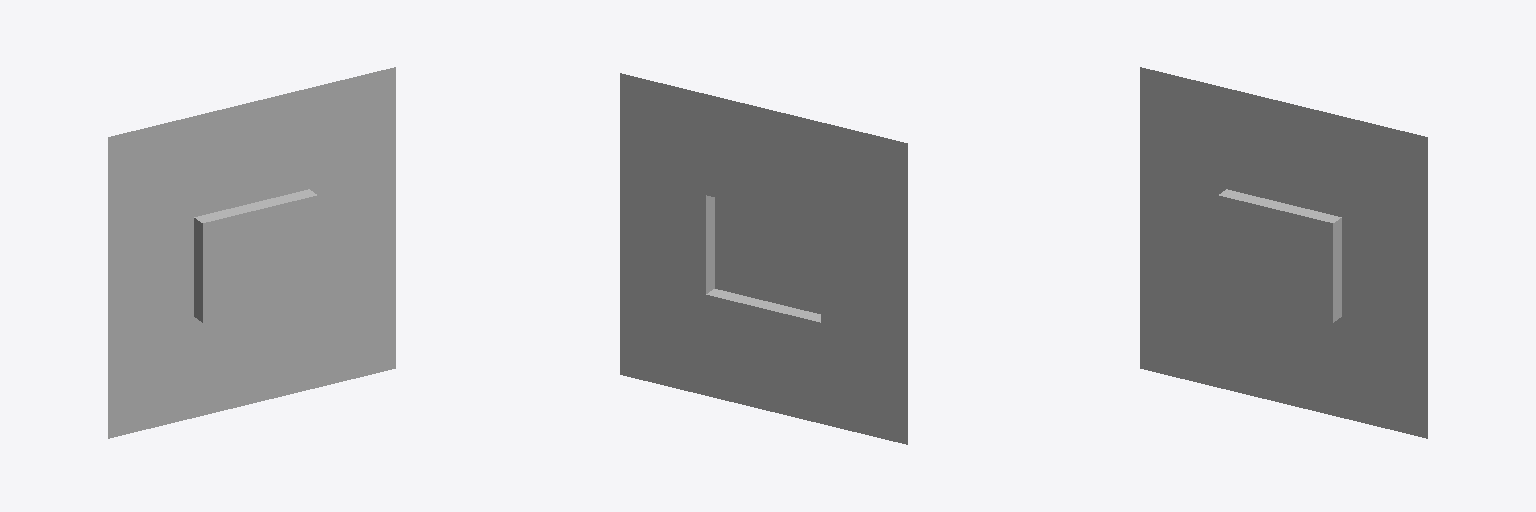
The model's file is wall-pane-wood-window.obj.
3 renders of one model, left to right at view 1: azimuth 30°, elevation 25°; view 2: azimuth 150°, elevation 25°; view 3: azimuth 330°, elevation 25°, orthographic.
Parts seen in each view (by area): view 1: wall-pane-wood-window; view 2: wall-pane-wood-window; view 3: wall-pane-wood-window.
Boxes of the visible parts, x1,y1,x2,y2 form: wall-pane-wood-window: [108, 67, 395, 438]; wall-pane-wood-window: [620, 73, 907, 444]; wall-pane-wood-window: [1140, 67, 1427, 438].
Size of the model in its own units: 1 by 1 by 0.05.